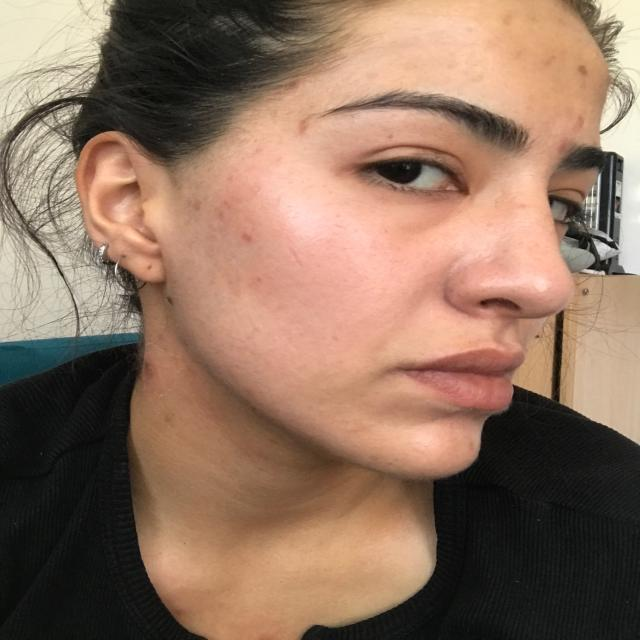Acne: (295, 115, 314, 140), (554, 138, 577, 156), (567, 114, 586, 133), (279, 77, 304, 91), (576, 60, 588, 83), (496, 10, 513, 26), (239, 228, 259, 240), (189, 196, 206, 209), (251, 180, 264, 197), (224, 195, 233, 216), (228, 173, 240, 186), (466, 439, 476, 454), (253, 274, 266, 285), (515, 201, 528, 210), (253, 145, 262, 157), (486, 220, 494, 230)
Blackheads: (474, 274, 528, 290)
